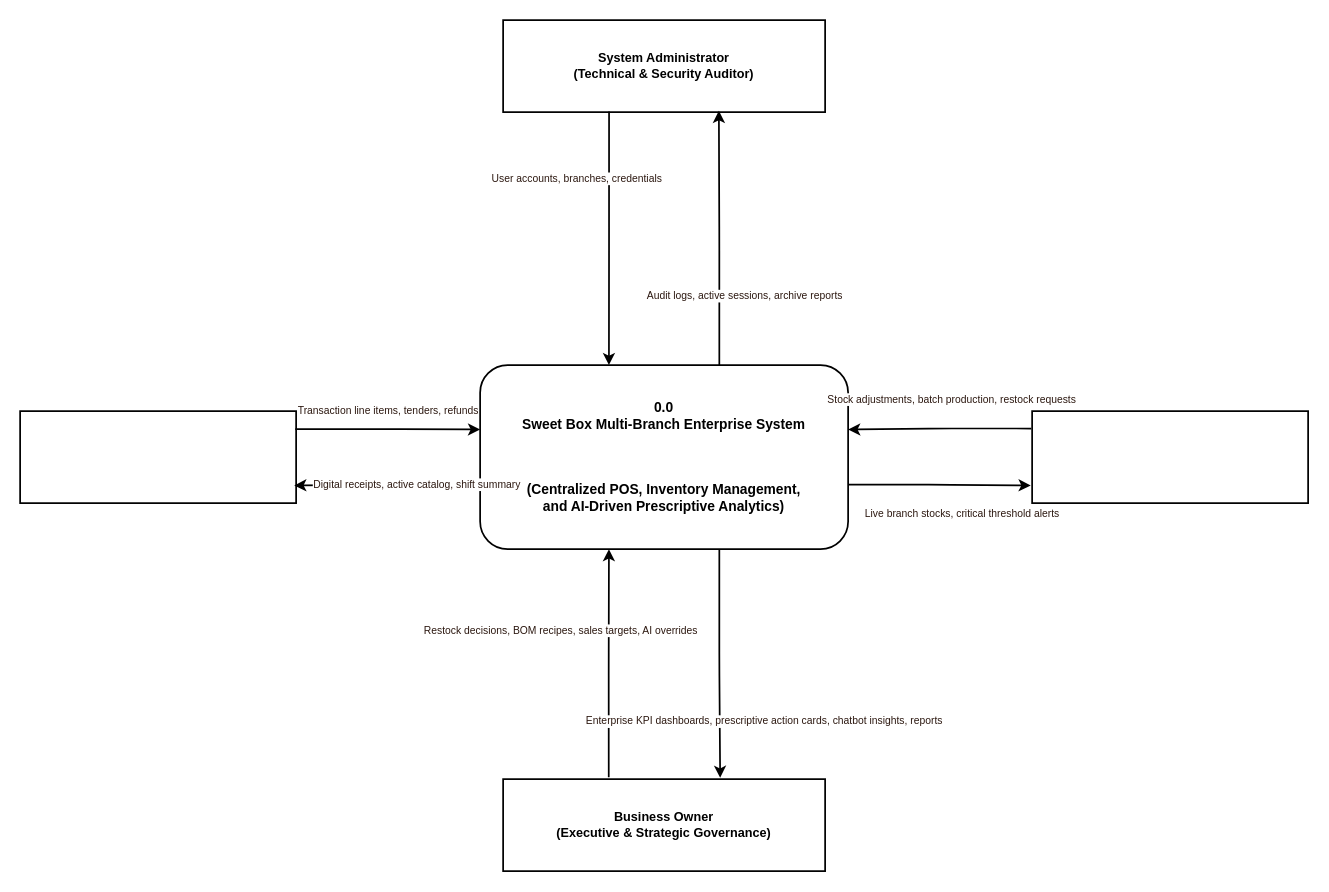
The diagram is 1329 pixels wide and 892 high, and some of its shapes have lost their labels. The centre of each missing label's shape, as x and y in pixels:
"Branch Manager (Store & Inventory Custodian)" belongs at (1169,456).
"Front Staff (Cashier / Point of Sale)" belongs at (157,456).
